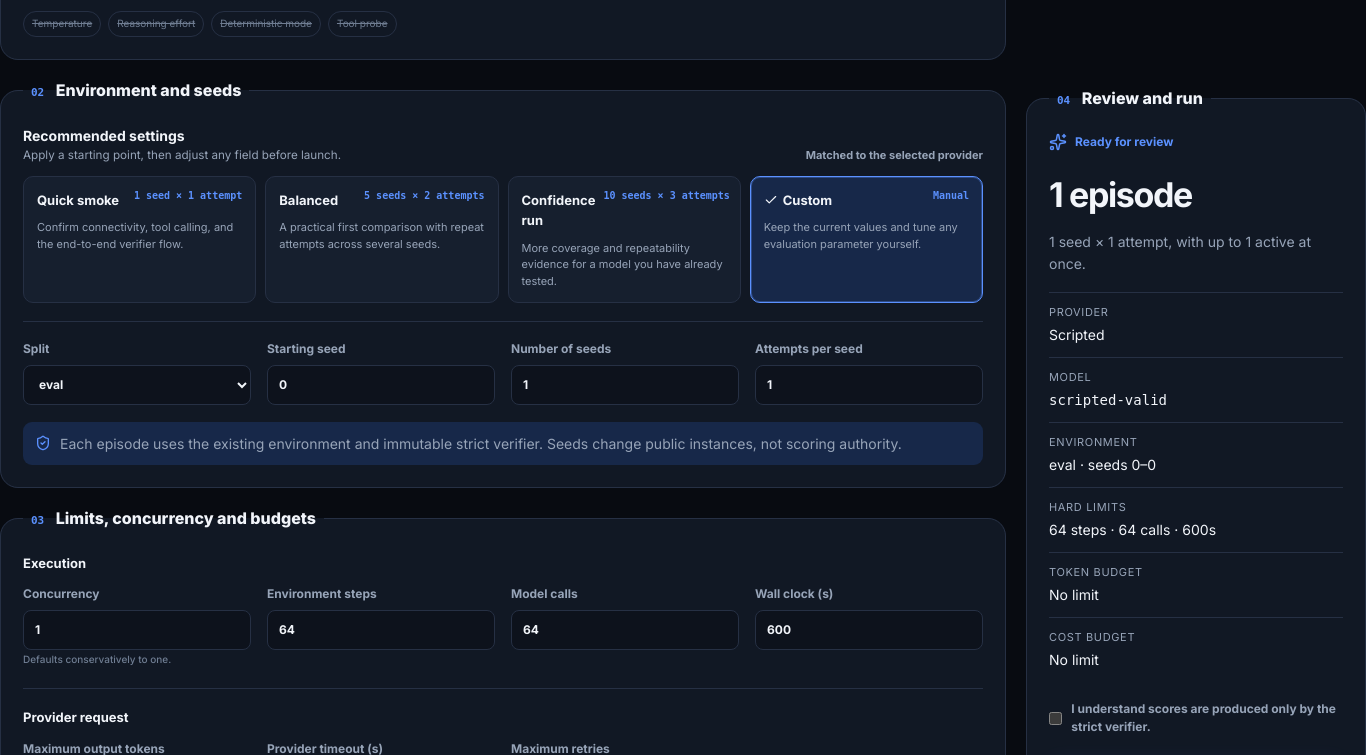
Test: evaluation summary recalculates episodes and hard limits
(page scrolled)
Step 1. Replace the text in the number field labelled "Number of seeds" with "3" → (625, 385), box [511, 365, 739, 405]
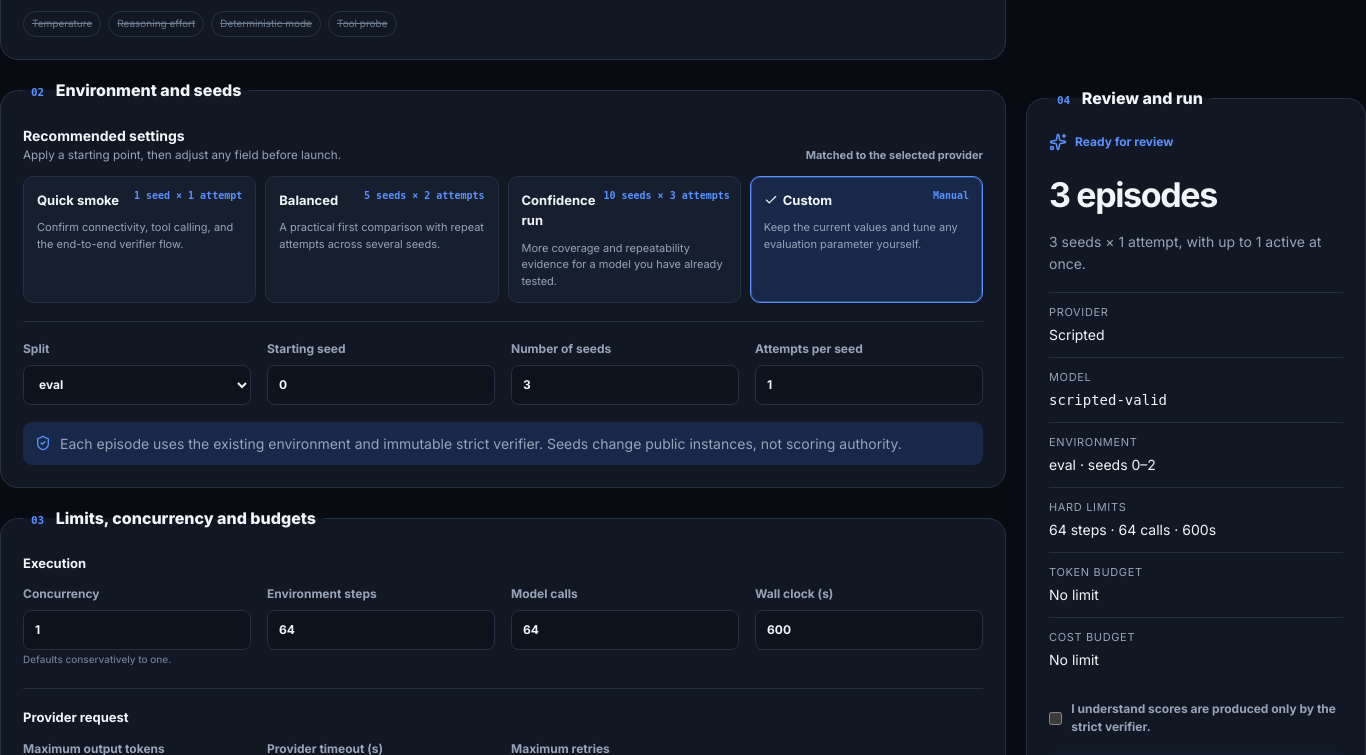
Step 2. Replace the text in the number field labelled "Attempts per seed" with "2" → (869, 385), box [755, 365, 983, 405]
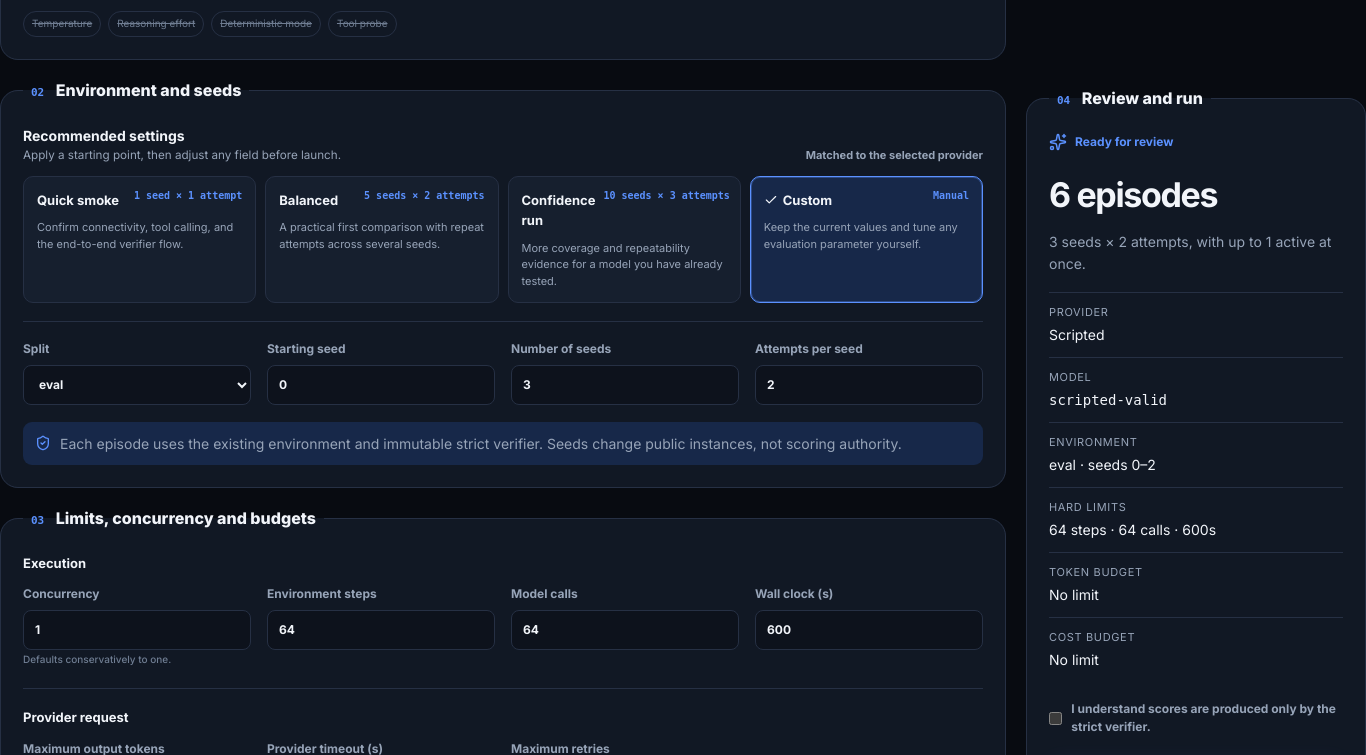
Step 3. Replace the text in the number field labelled "Environment steps" with "80" → (381, 630), box [267, 610, 495, 650]
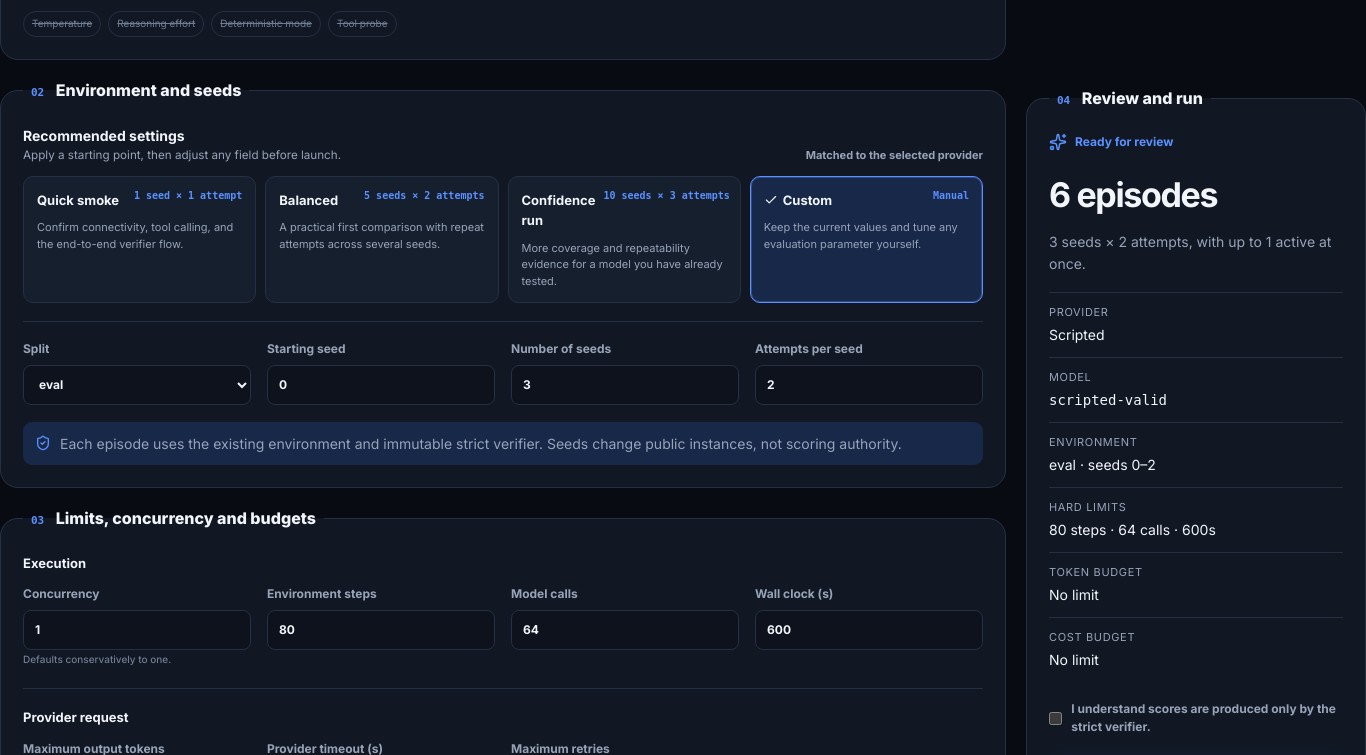
Check: the text "6 episodes" is shown, box [1049, 173, 1217, 214]
Check: the text "3 seeds × 2 attempts, with up to 1 active at once." is shown, box [1049, 231, 1343, 274]
Check: the text "80 steps · 64 calls · 600s" is shown, box [1049, 521, 1216, 538]
